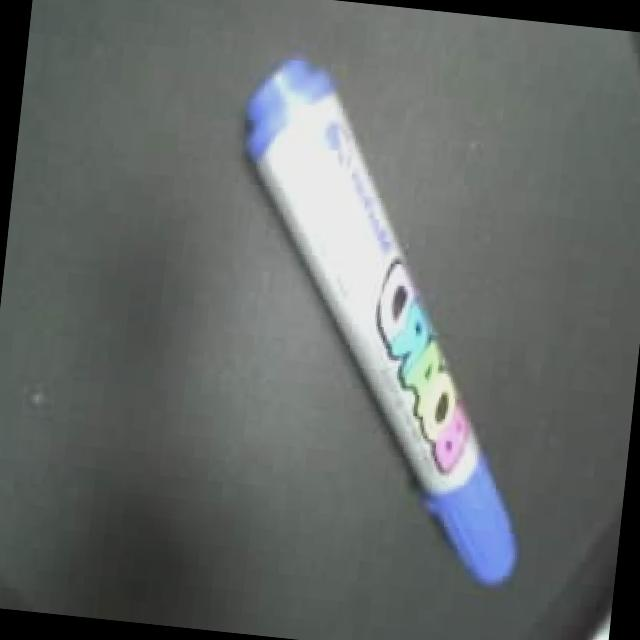board-marker: (233, 47, 525, 598)
